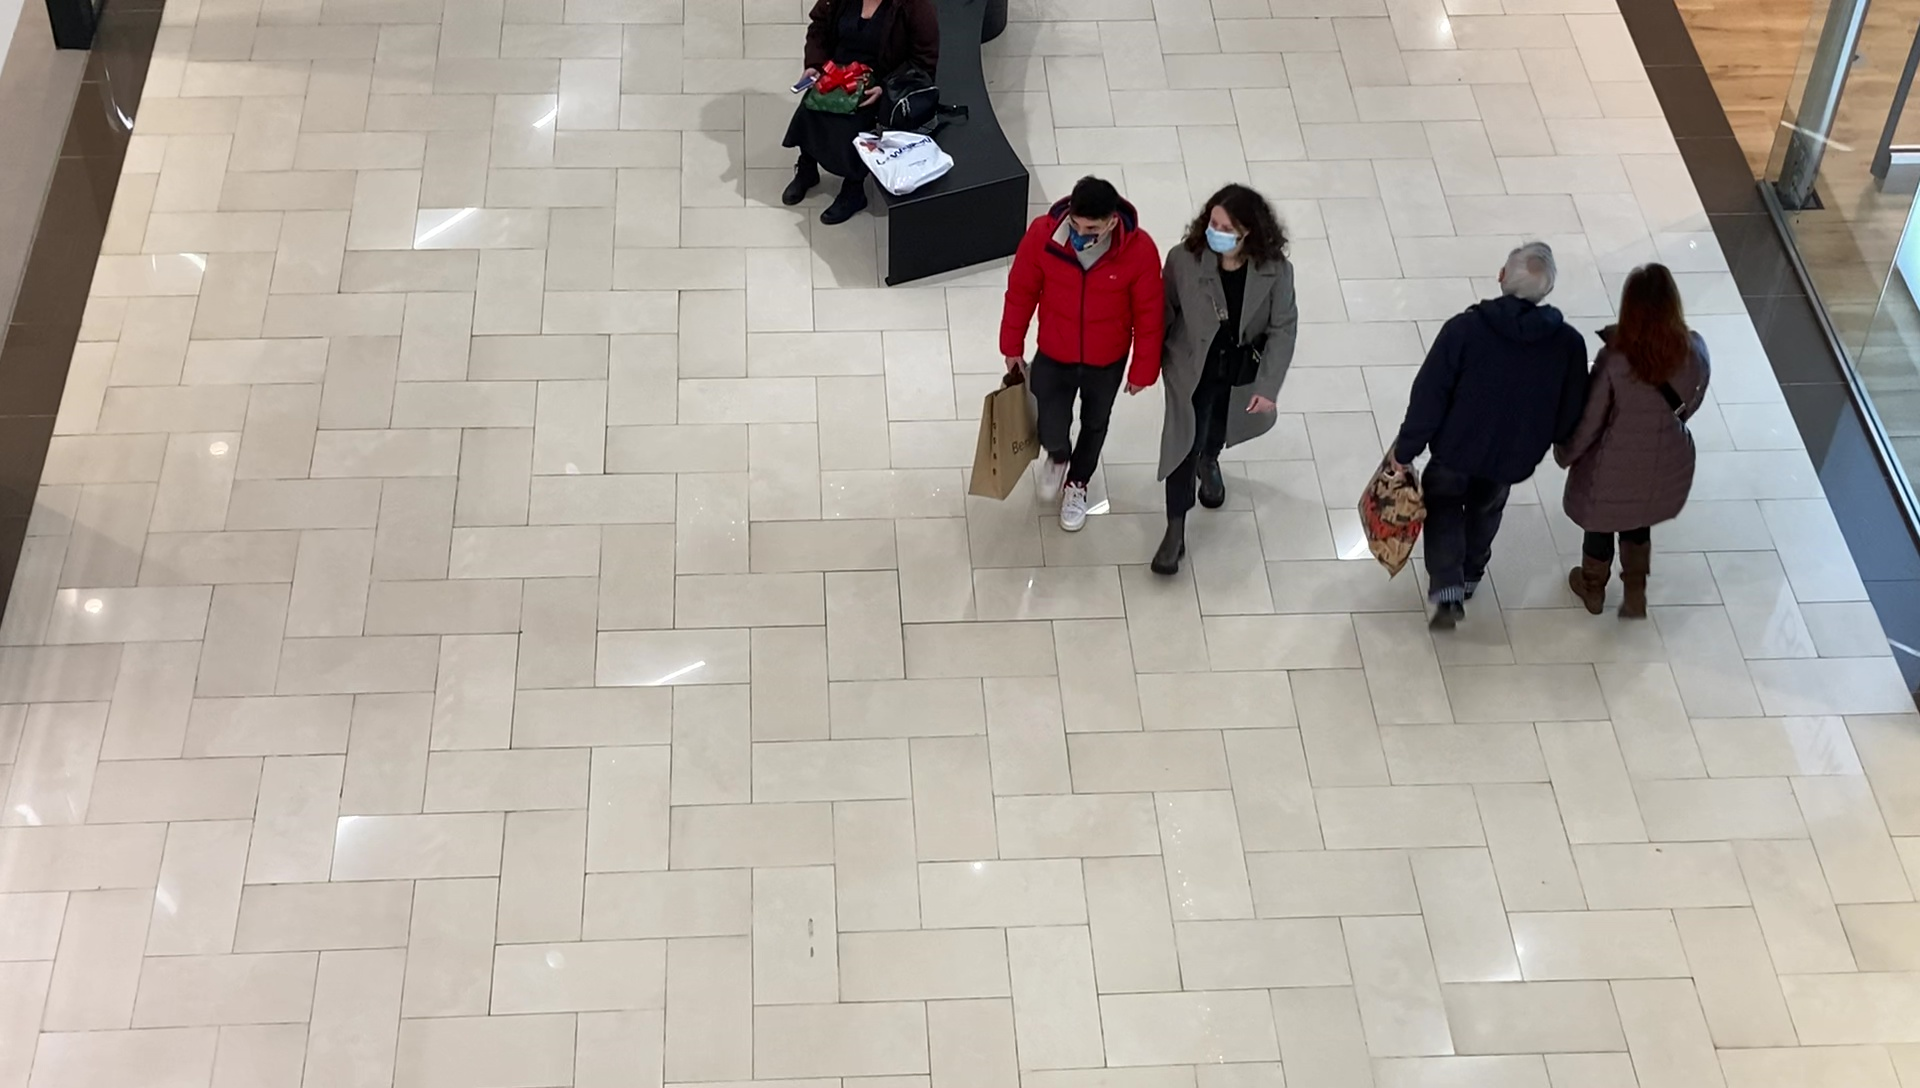person: (1386, 241, 1585, 636), (1001, 178, 1163, 534), (1164, 184, 1300, 578), (1579, 261, 1712, 625)
